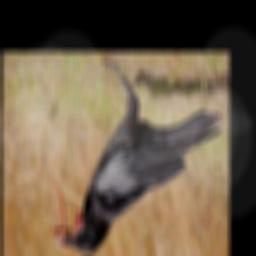Crow: (42, 60, 224, 256)
